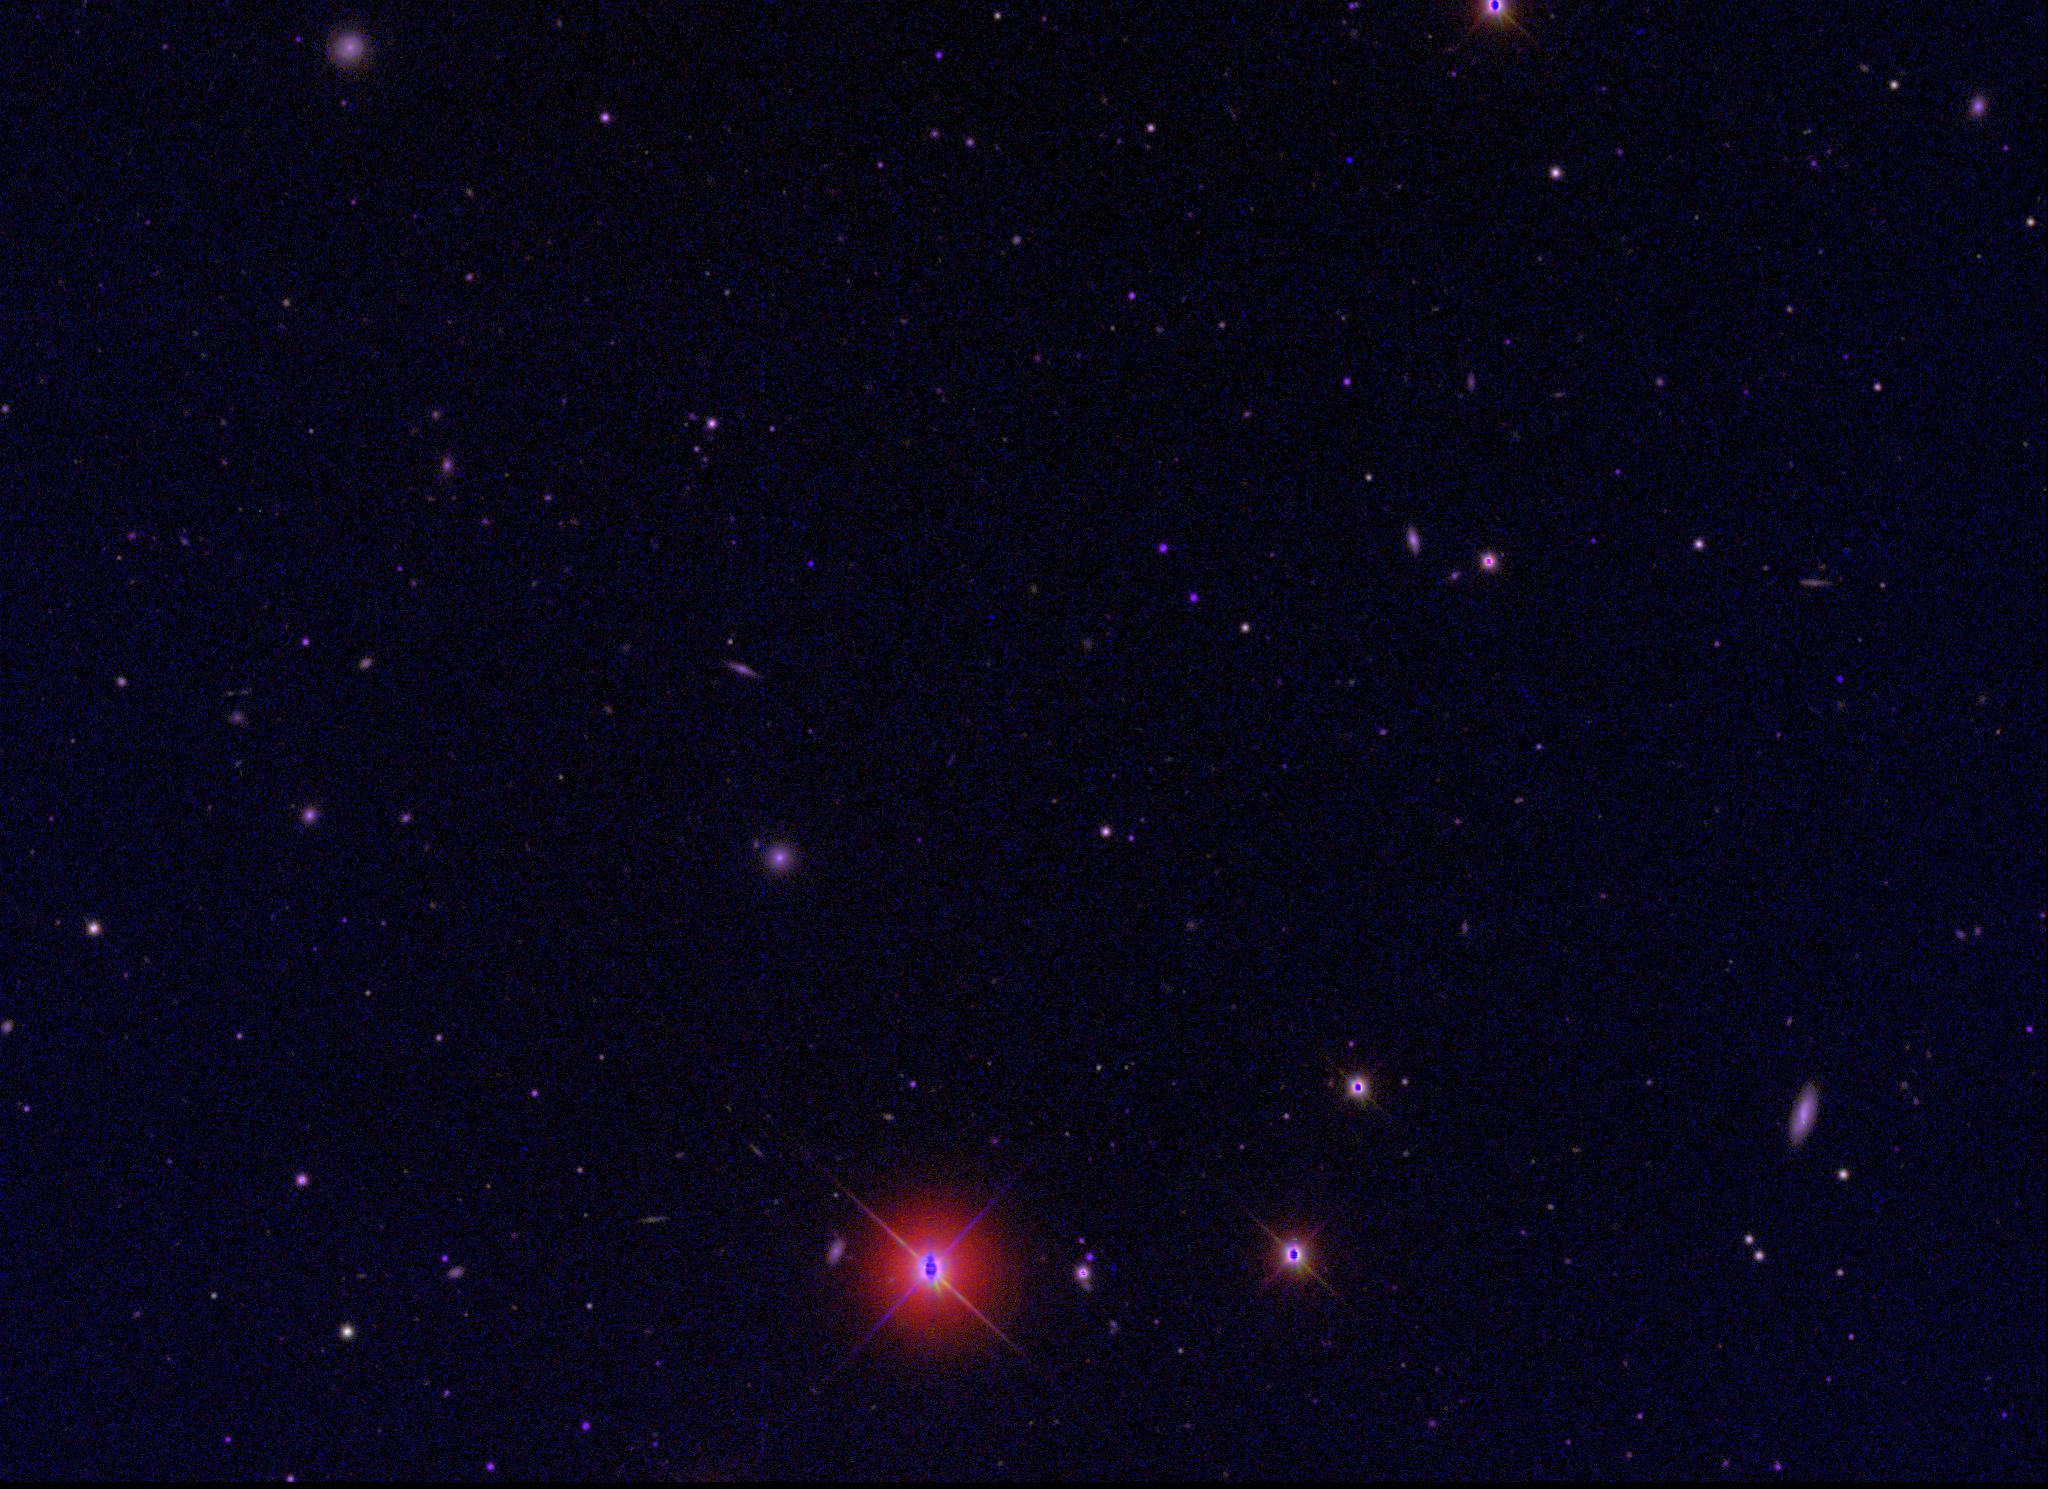L: (1342, 151, 1356, 165)
